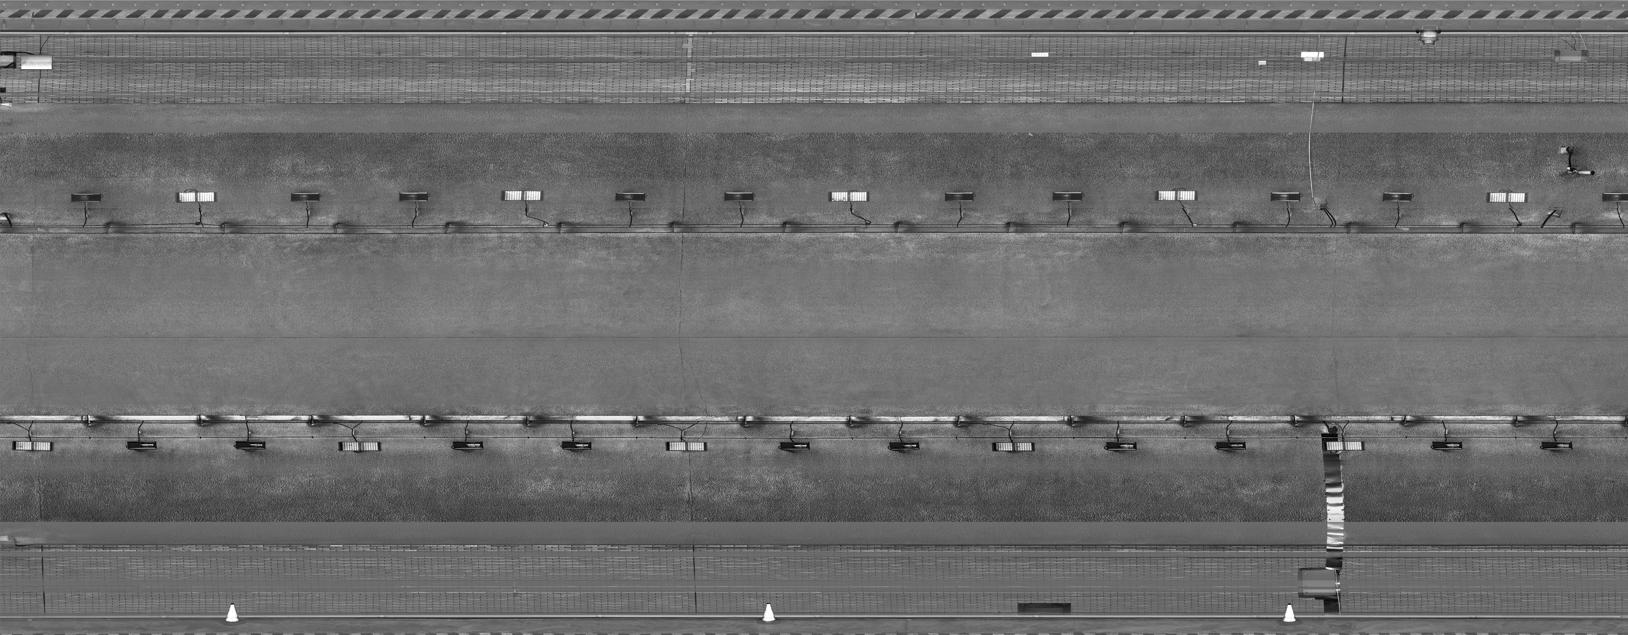light: (7, 436, 62, 455), (170, 188, 225, 208), (334, 436, 389, 455), (491, 186, 546, 205), (822, 187, 877, 206), (1149, 186, 1204, 205), (1319, 436, 1374, 455), (1478, 188, 1534, 208), (659, 437, 714, 455), (986, 437, 1041, 455), (1040, 187, 1089, 204), (284, 187, 329, 205), (720, 185, 764, 203), (775, 436, 819, 454), (881, 436, 926, 454), (937, 186, 981, 204), (1098, 435, 1143, 453), (1209, 435, 1253, 453), (1261, 188, 1306, 206), (1375, 188, 1419, 206), (1424, 435, 1469, 453), (63, 188, 107, 206), (117, 437, 161, 455), (228, 436, 272, 454), (391, 188, 435, 206), (444, 434, 488, 452), (607, 187, 651, 205), (553, 437, 597, 455), (1534, 438, 1578, 455), (1595, 186, 1628, 203)
